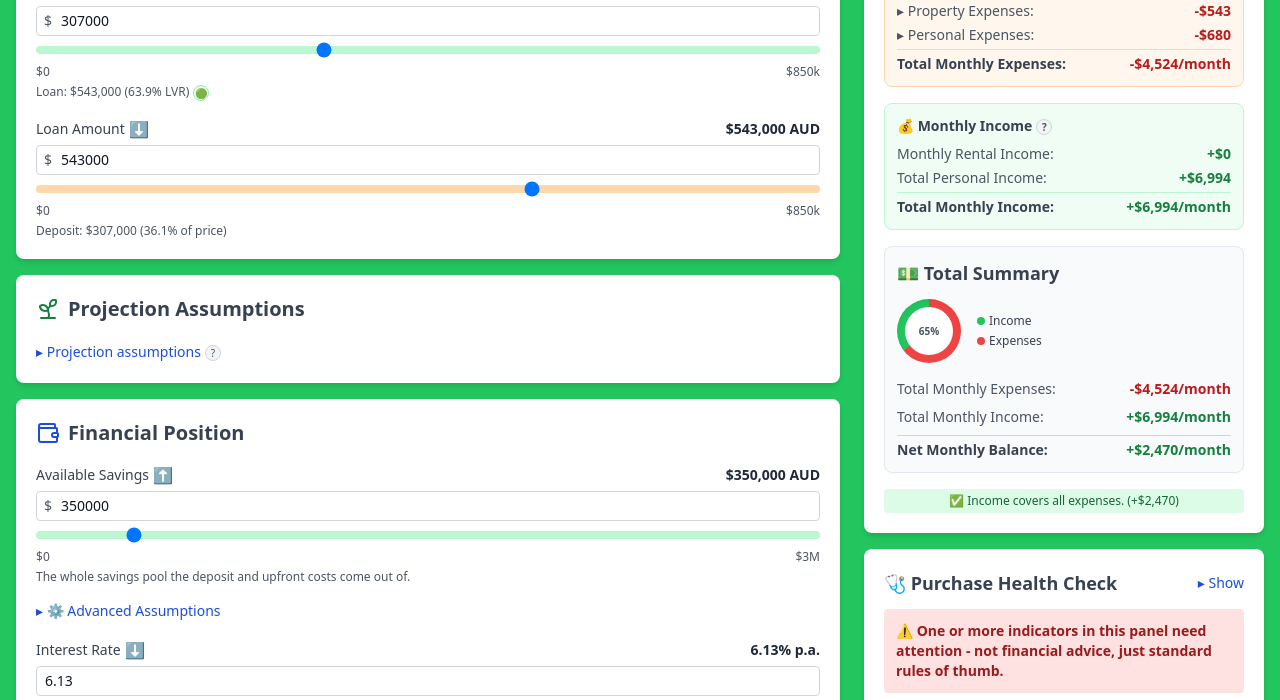
Test: input-panel toggle: Projection assumptions › flips the ▸/▾ glyph and reveals/hides its content
This screenshot has width=1280, height=700.
(page scrolled)
Click the button "▸ Projection assumptions" at (118, 352), box [36, 342, 201, 362]
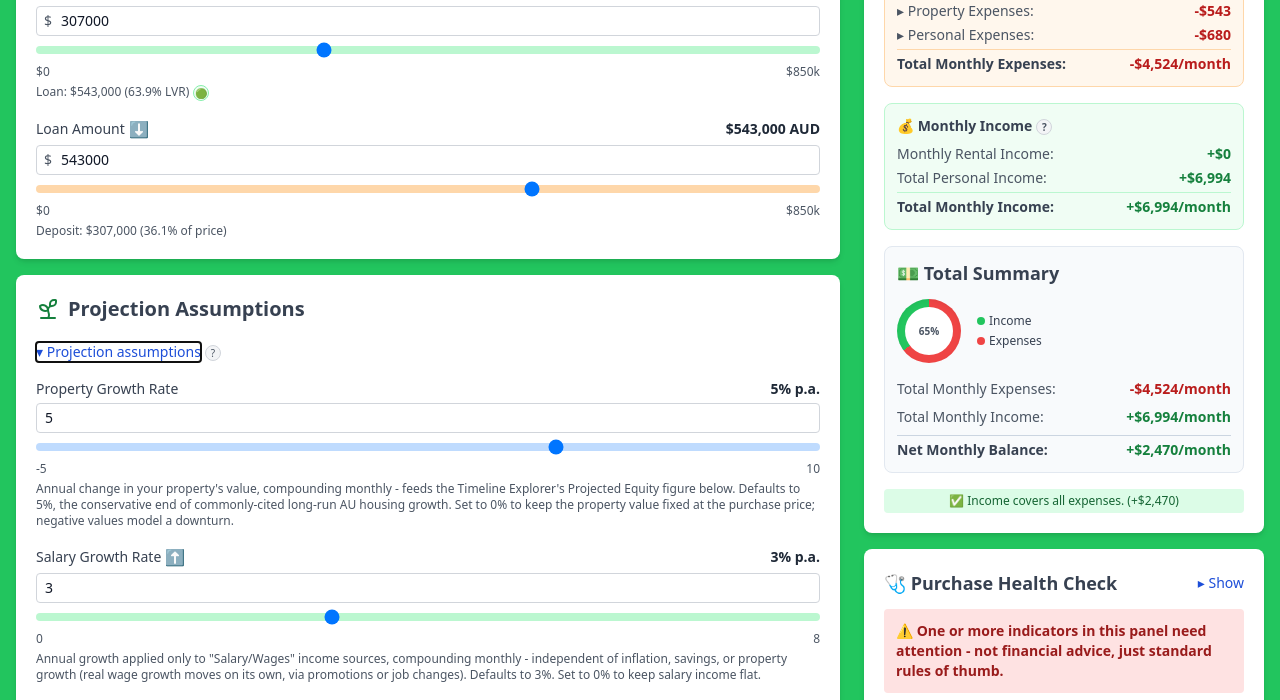
Expected: the button "▾ Projection assumptions" is shown
Expected: the number field labelled "Property Growth Rate" is shown, [36, 403, 820, 433]
Click the button "▾ Projection assumptions" at (118, 352), box [36, 342, 201, 362]
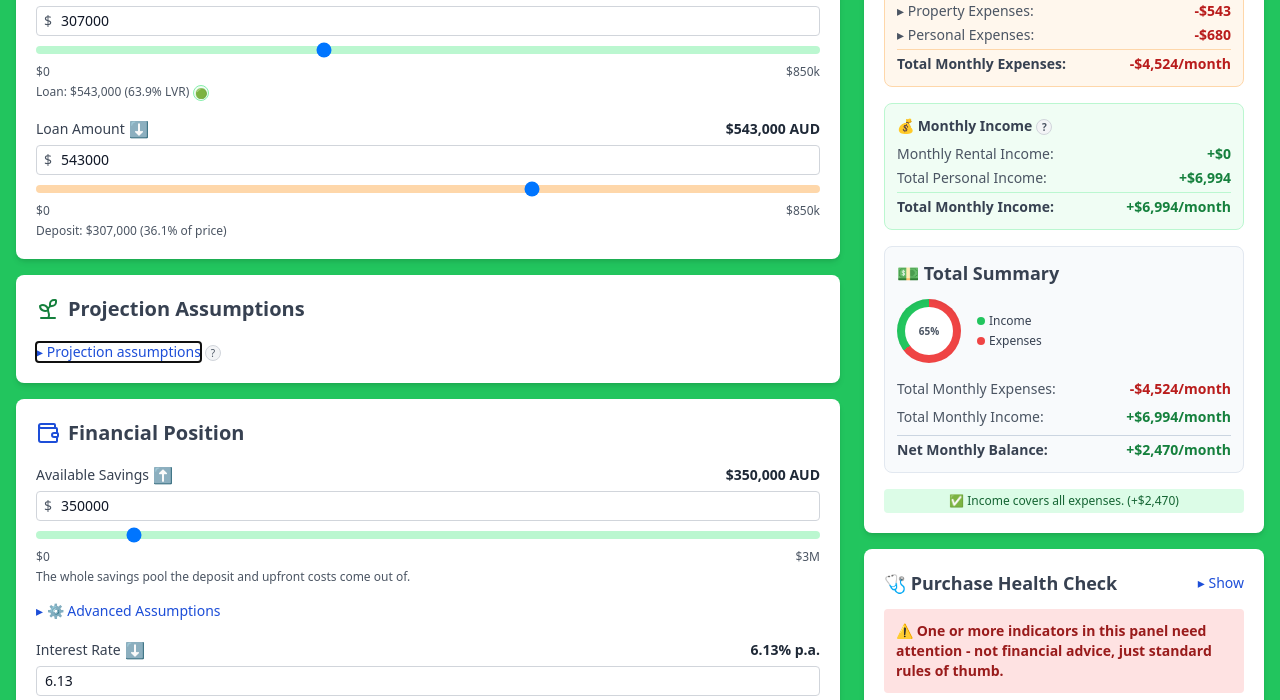
Expected: the button "▸ Projection assumptions" is shown, [36, 342, 201, 362]
